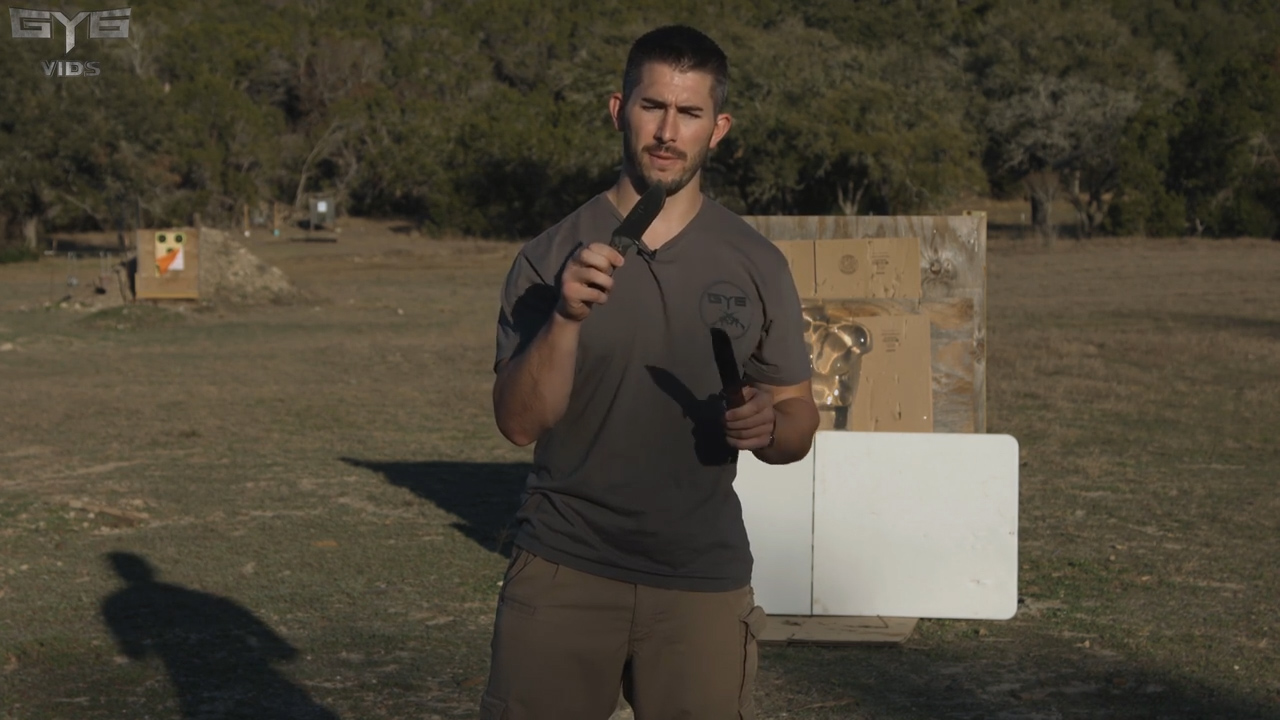knife: (569, 165, 671, 297), (699, 318, 771, 452)
